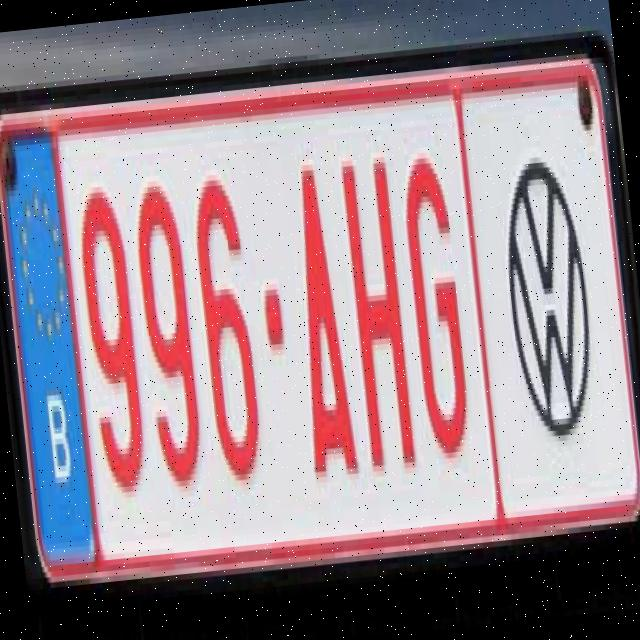Belgique: (0, 119, 99, 572)
EU: (0, 50, 640, 584)
